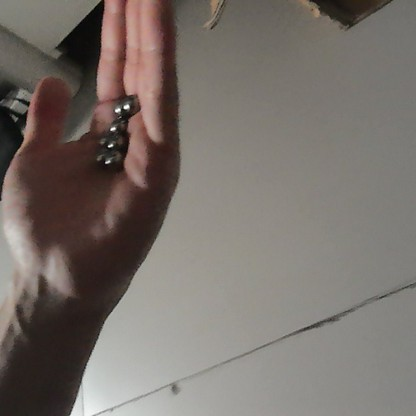ironball: (102, 150, 124, 172), (121, 95, 140, 115), (105, 134, 124, 151), (109, 117, 124, 137), (111, 101, 126, 117), (91, 148, 105, 165), (95, 131, 107, 145)
